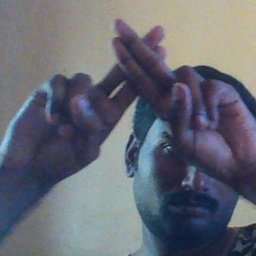F: (60, 11, 224, 145)
